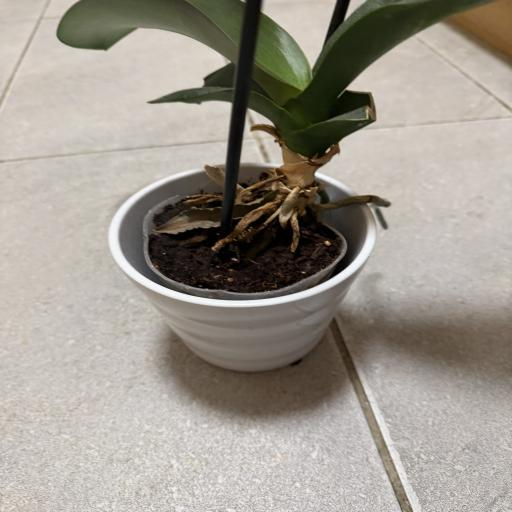Plant Pot: (106, 162, 381, 372)
